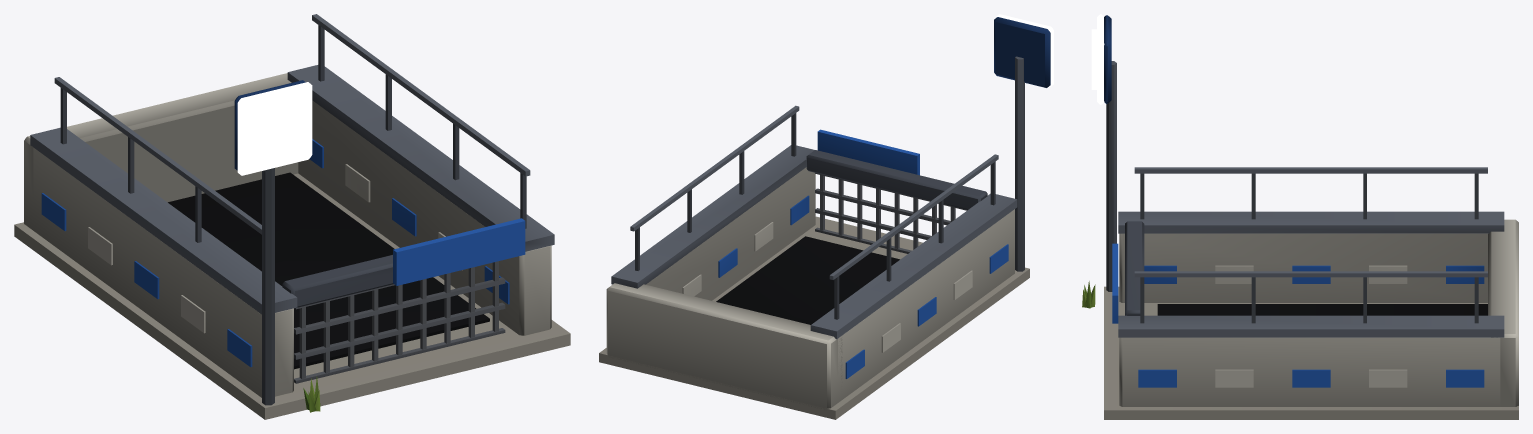
File: p_st_ubahn.glb
3 renders of one model, left to right at view 1: azimuth 30°, elevation 25°; view 2: azimuth 150°, elevation 25°; view 3: azimuth 270°, elevation 25°, orthographic. The views are drawn at different scales.
Parts seen in each view (by area): view 1: body, gate, sign_glow; view 2: body, gate, sign_glow; view 3: body, gate, sign_glow.
Boxes of the visible parts, x1,y1,x2,y2 form: body: (14, 14, 570, 419); gate: (282, 255, 505, 383); sign_glow: (237, 82, 312, 175); body: (599, 17, 1050, 419); gate: (806, 150, 987, 253); sign_glow: (996, 14, 1053, 86); body: (1082, 15, 1518, 419); gate: (1125, 221, 1144, 315); sign_glow: (1091, 14, 1104, 104).
Bounding box in the file's own units: 4.16 × 3.91 × 5.68.
